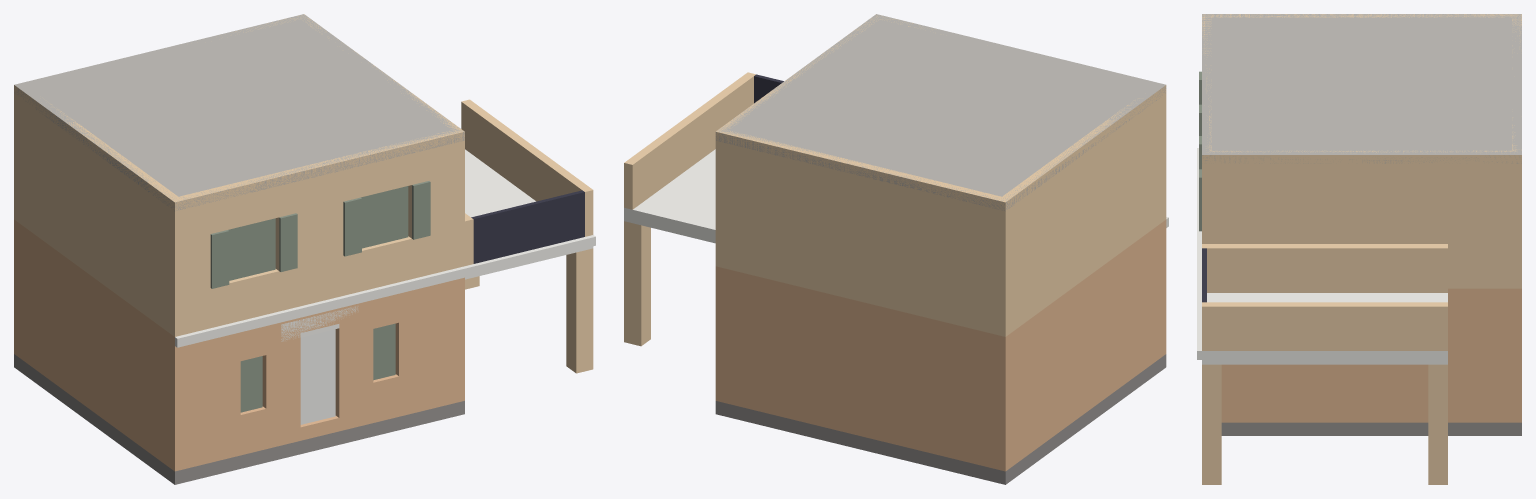
Rendered from House_Model_88sqr.glb.
3 views of the same model, side by side, from view 1: azimuth 30°, elevation 25°; view 2: azimuth 150°, elevation 25°; view 3: azimuth 270°, elevation 25° (orthographic).
Parts seen in each view (by area): view 1: SecondFloor_Walls, GroundFloor_Walls, Flat_Roof_Cap, Foundation, Balcony_Wall_Right, Balcony_Railing_Front, Horizontal_Trim, Pillar_FrontRight, Door_Panel, Balcony_Floor, SFWindow_Left_Pane, SFWindow_Right_Pane (+7 smaller); view 2: SecondFloor_Walls, GroundFloor_Walls, Flat_Roof_Cap, Foundation, Balcony_Wall_Right, Balcony_Floor, Pillar_RearRight; view 3: Flat_Roof_Cap, SecondFloor_Walls, GroundFloor_Walls, Balcony_Wall_Right, Balcony_Wall_Left, Balcony_Floor, Foundation, Pillar_FrontRight, Pillar_RearRight, Horizontal_Trim.
Boxes of the visible parts, box(x1,y1,x2,y2) form: SecondFloor_Walls: box(14, 14, 464, 336); GroundFloor_Walls: box(14, 219, 464, 471); Flat_Roof_Cap: box(14, 14, 464, 211); Foundation: box(14, 354, 464, 484); Balcony_Wall_Right: box(461, 99, 593, 236); Balcony_Railing_Front: box(471, 190, 584, 263); Horizontal_Trim: box(175, 235, 595, 347); Pillar_FrontRight: box(566, 248, 593, 373); Door_Panel: box(300, 329, 335, 424); Balcony_Floor: box(465, 149, 593, 279); SFWindow_Left_Pane: box(228, 218, 275, 280); SFWindow_Right_Pane: box(361, 186, 408, 248); SecondFloor_Walls: box(715, 16, 1166, 336); GroundFloor_Walls: box(715, 220, 1166, 471); Flat_Roof_Cap: box(716, 14, 1166, 211); Foundation: box(715, 354, 1166, 484); Balcony_Wall_Right: box(624, 72, 755, 209); Balcony_Floor: box(624, 149, 715, 243); Pillar_RearRight: box(624, 221, 650, 346); Flat_Roof_Cap: box(1202, 14, 1521, 163); SecondFloor_Walls: box(1202, 14, 1521, 288); GroundFloor_Walls: box(1221, 288, 1521, 422); Balcony_Wall_Right: box(1202, 302, 1447, 350); Balcony_Wall_Left: box(1202, 244, 1447, 292); Balcony_Floor: box(1202, 293, 1447, 364); Foundation: box(1221, 422, 1521, 435); Pillar_FrontRight: box(1202, 364, 1221, 484); Pillar_RearRight: box(1428, 364, 1447, 484); Horizontal_Trim: box(1197, 148, 1201, 359).
Size of the model in its own units: 9.77 by 6.3 by 6.6.
